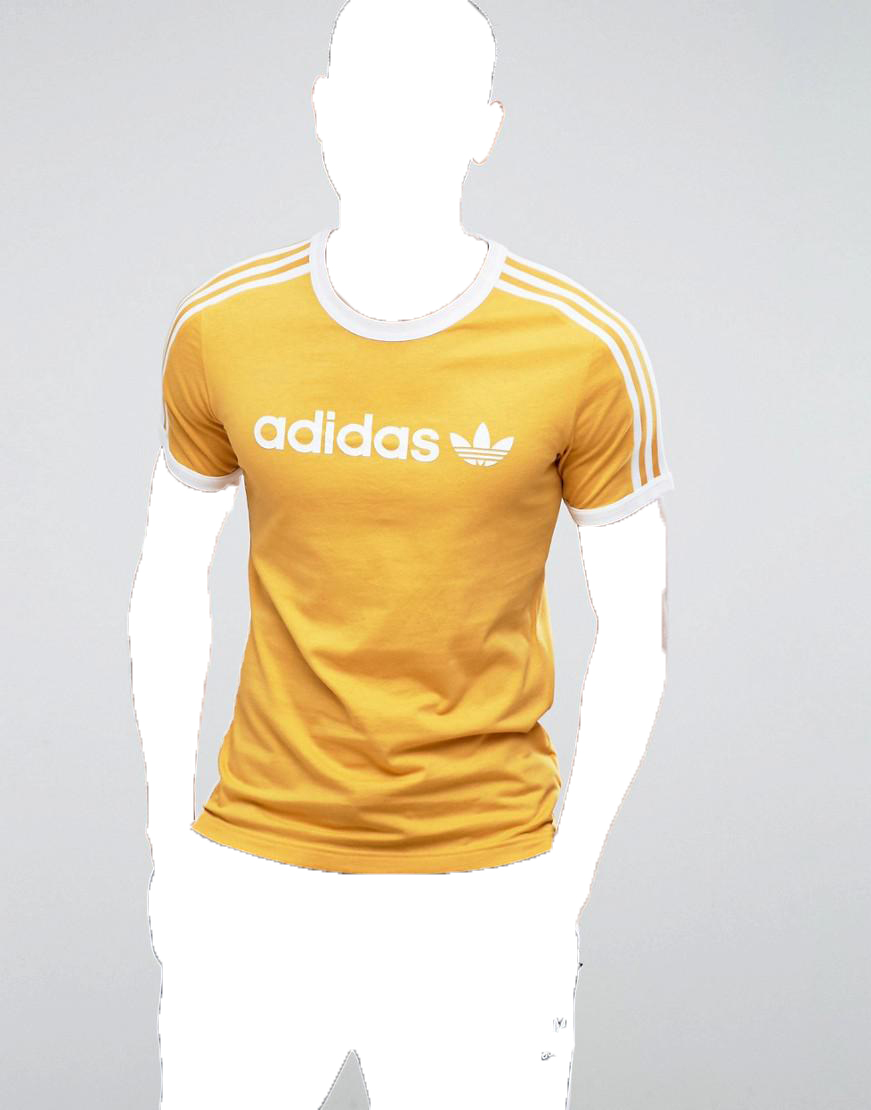teeshirt: (146, 237, 676, 879)
